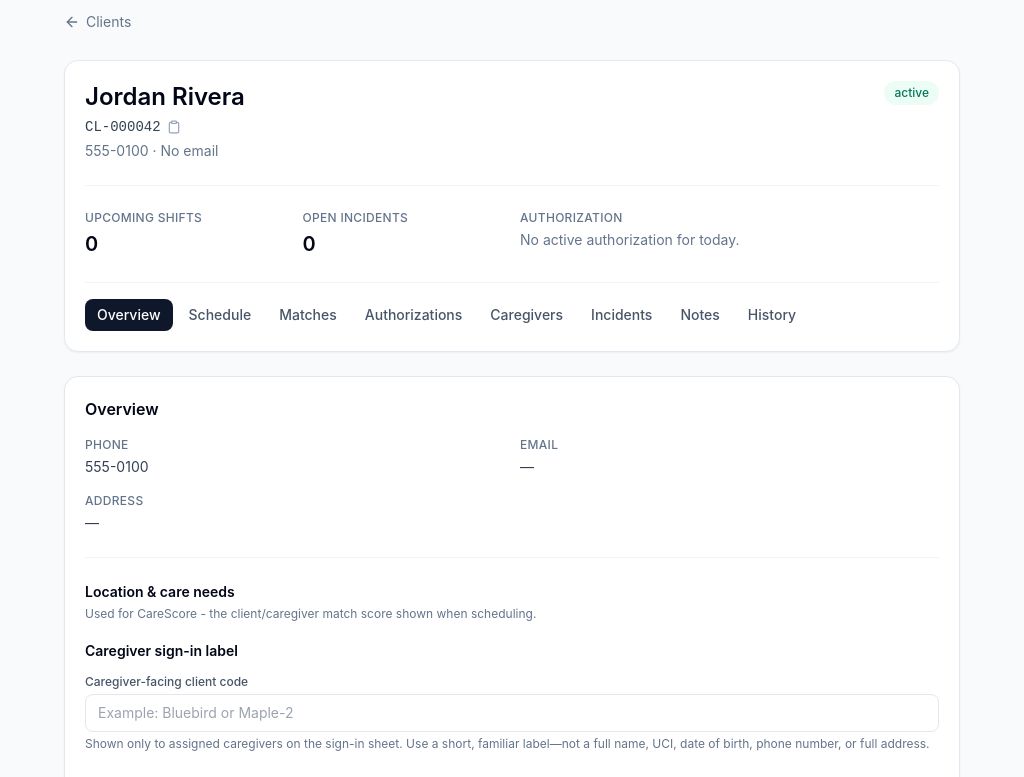
it: ClientDetailPage › shows the Client ID prominently next to the client's name and copies it
Expected: the text "CL-000042" is shown, [85,117,161,137]
Click the button named "Copy Client ID". click: (174, 127)
box: [167,120,181,134]
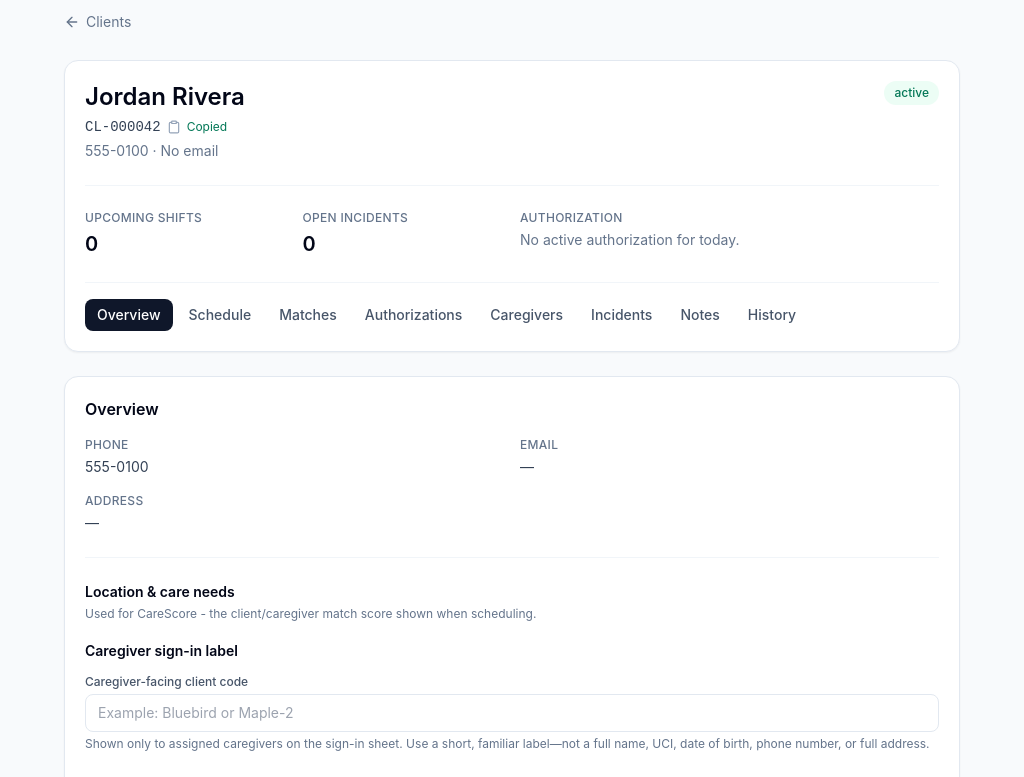
Now the text "Copied" is shown, box [187,119,227,135]
